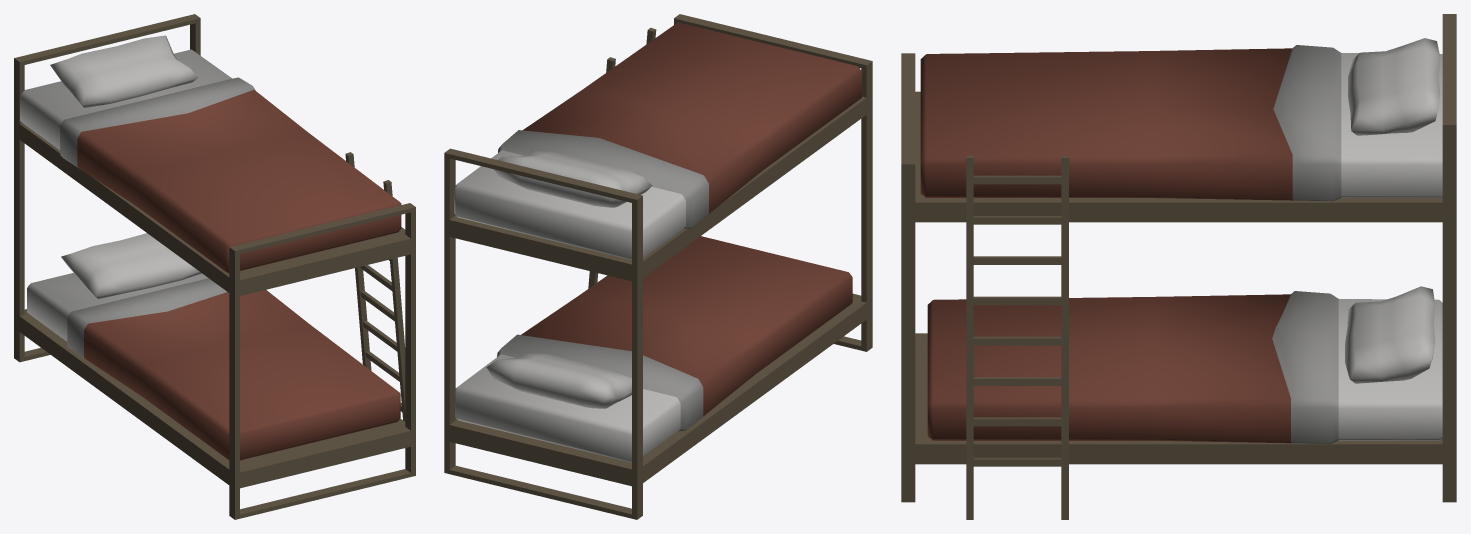
File: bed-bunk.glb
3 views of the same model, side by side, from view 1: azimuth 30°, elevation 25°; view 2: azimuth 150°, elevation 25°; view 3: azimuth 270°, elevation 25° (orthographic). The views are drawn at different scales.
Visible parts, largest first — view 1: Bed_Bunk; view 2: Bed_Bunk; view 3: Bed_Bunk.
Part boxes in pixels (<box>): Bed_Bunk: <box>14,14,415,519</box>; Bed_Bunk: <box>444,14,872,519</box>; Bed_Bunk: <box>901,14,1456,519</box>.
Size of the model in its own units: 2.17 by 3.03 by 4.
